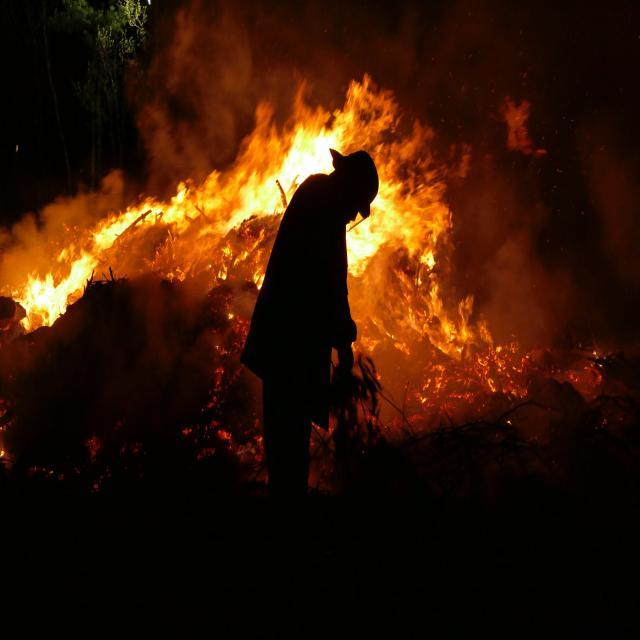Fire: (9, 70, 528, 407)
Smoke: (137, 0, 350, 199), (453, 164, 579, 350), (0, 158, 126, 296)
